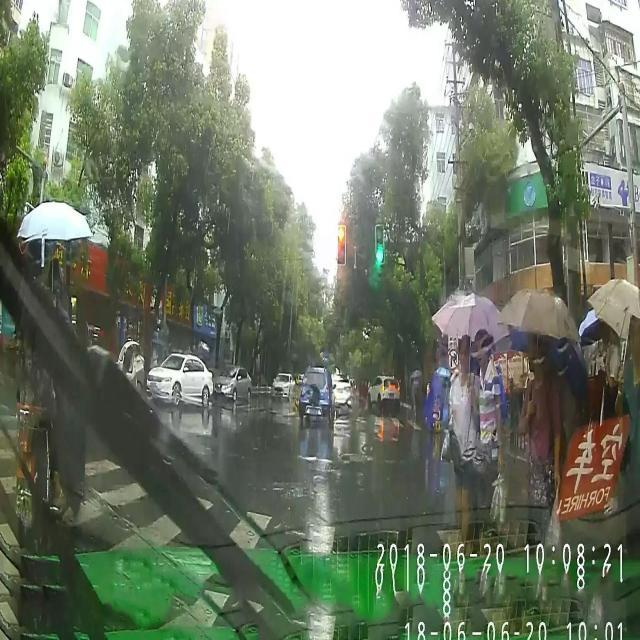car: (142, 344, 216, 410), (298, 353, 332, 434), (212, 359, 254, 404), (364, 372, 402, 416), (332, 367, 360, 418), (270, 366, 297, 410)
